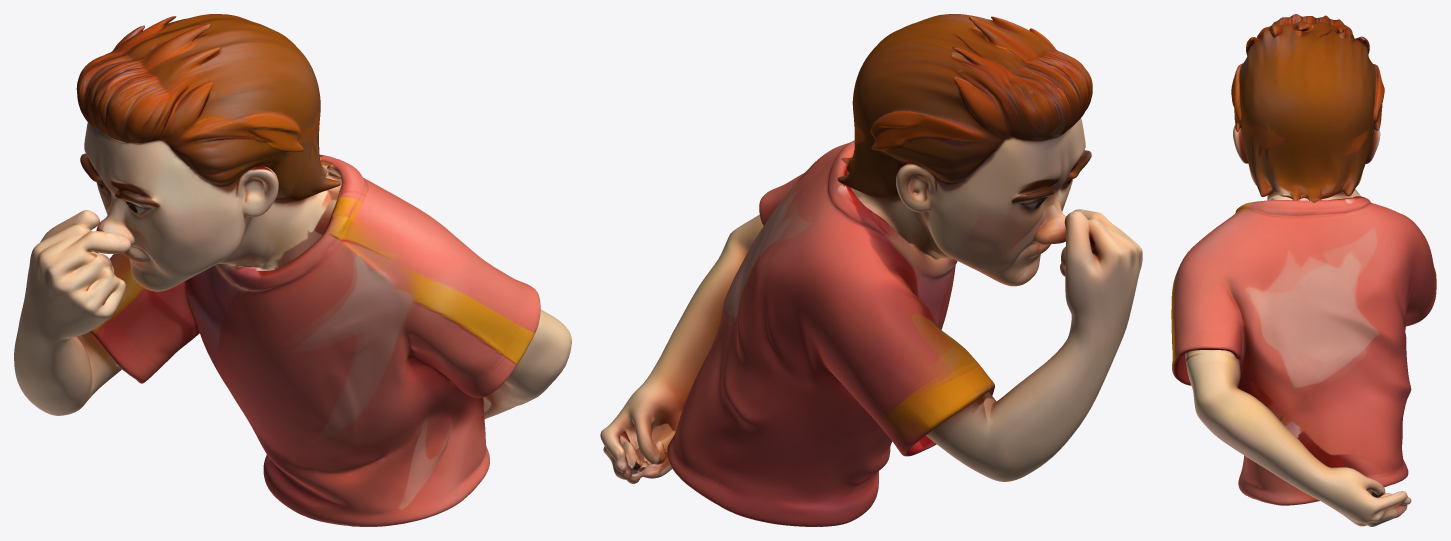
The model's file is nosebleed.gltf.
The picture shows the model from 3 angles, left to right: view 1: azimuth 30°, elevation 25°; view 2: azimuth 150°, elevation 25°; view 3: azimuth 270°, elevation 25°; orthographic projection. The views are drawn at different scales.
Parts seen in each view (by area): view 1: mvadapter_node_365bd8f9-74e3-46d0-b090-1ad2d0021b0c-e2_textu; view 2: mvadapter_node_365bd8f9-74e3-46d0-b090-1ad2d0021b0c-e2_textu; view 3: mvadapter_node_365bd8f9-74e3-46d0-b090-1ad2d0021b0c-e2_textu.
Part boxes in pixels (x1=…): mvadapter_node_365bd8f9-74e3-46d0-b090-1ad2d0021b0c-e2_textu: x1=14, y1=14, x2=571, y2=526; mvadapter_node_365bd8f9-74e3-46d0-b090-1ad2d0021b0c-e2_textu: x1=600, y1=14, x2=1142, y2=526; mvadapter_node_365bd8f9-74e3-46d0-b090-1ad2d0021b0c-e2_textu: x1=1171, y1=14, x2=1436, y2=526.
Size of the model in its own units: 1.87 by 1.87 by 1.13.
1 material, 1 textured.
